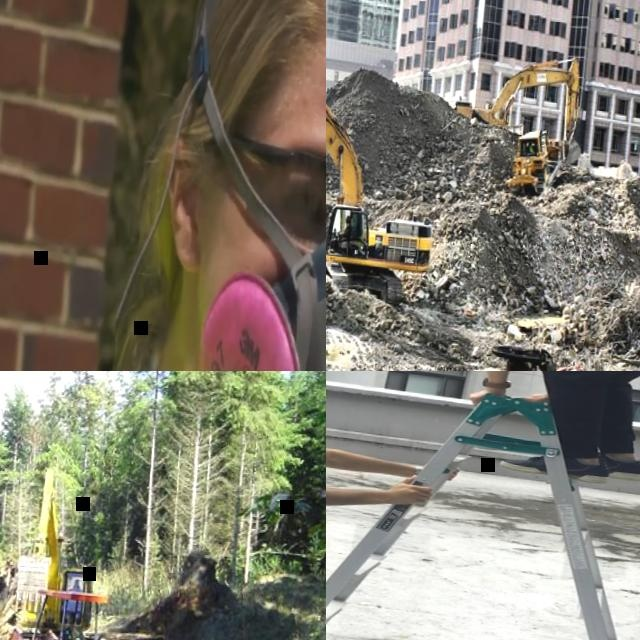Mask: (179, 193, 326, 371)
NO-Hardhat: (189, 0, 326, 145), (344, 215, 350, 221)
Person: (0, 0, 326, 371), (326, 371, 468, 640), (414, 371, 640, 494), (338, 213, 352, 237), (70, 579, 81, 591), (525, 141, 534, 155)
Safety Vest: (71, 585, 80, 592), (527, 146, 534, 154)
machinery: (326, 43, 448, 312), (0, 467, 105, 639), (449, 47, 589, 170), (0, 582, 118, 640), (503, 127, 565, 198)
